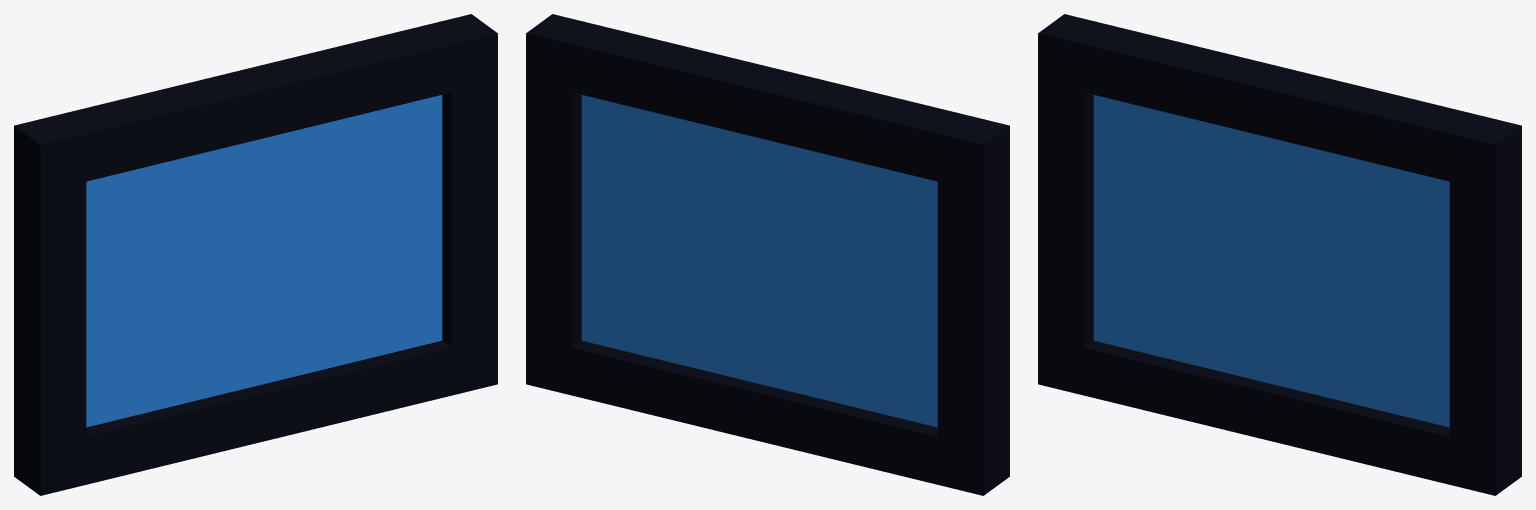
File: window_pane.obj
The picture shows the model from 3 angles, left to right: view 1: azimuth 30°, elevation 25°; view 2: azimuth 150°, elevation 25°; view 3: azimuth 330°, elevation 25°; orthographic projection.
Parts seen in each view (by area): view 1: window_pane; view 2: window_pane; view 3: window_pane.
Part boxes in pixels (x1,y1,x2,y2): window_pane: (14,14,497,495); window_pane: (526,14,1009,495); window_pane: (1038,14,1521,495).
Bounding box in the file's own units: 3 × 2.2 × 0.3.
